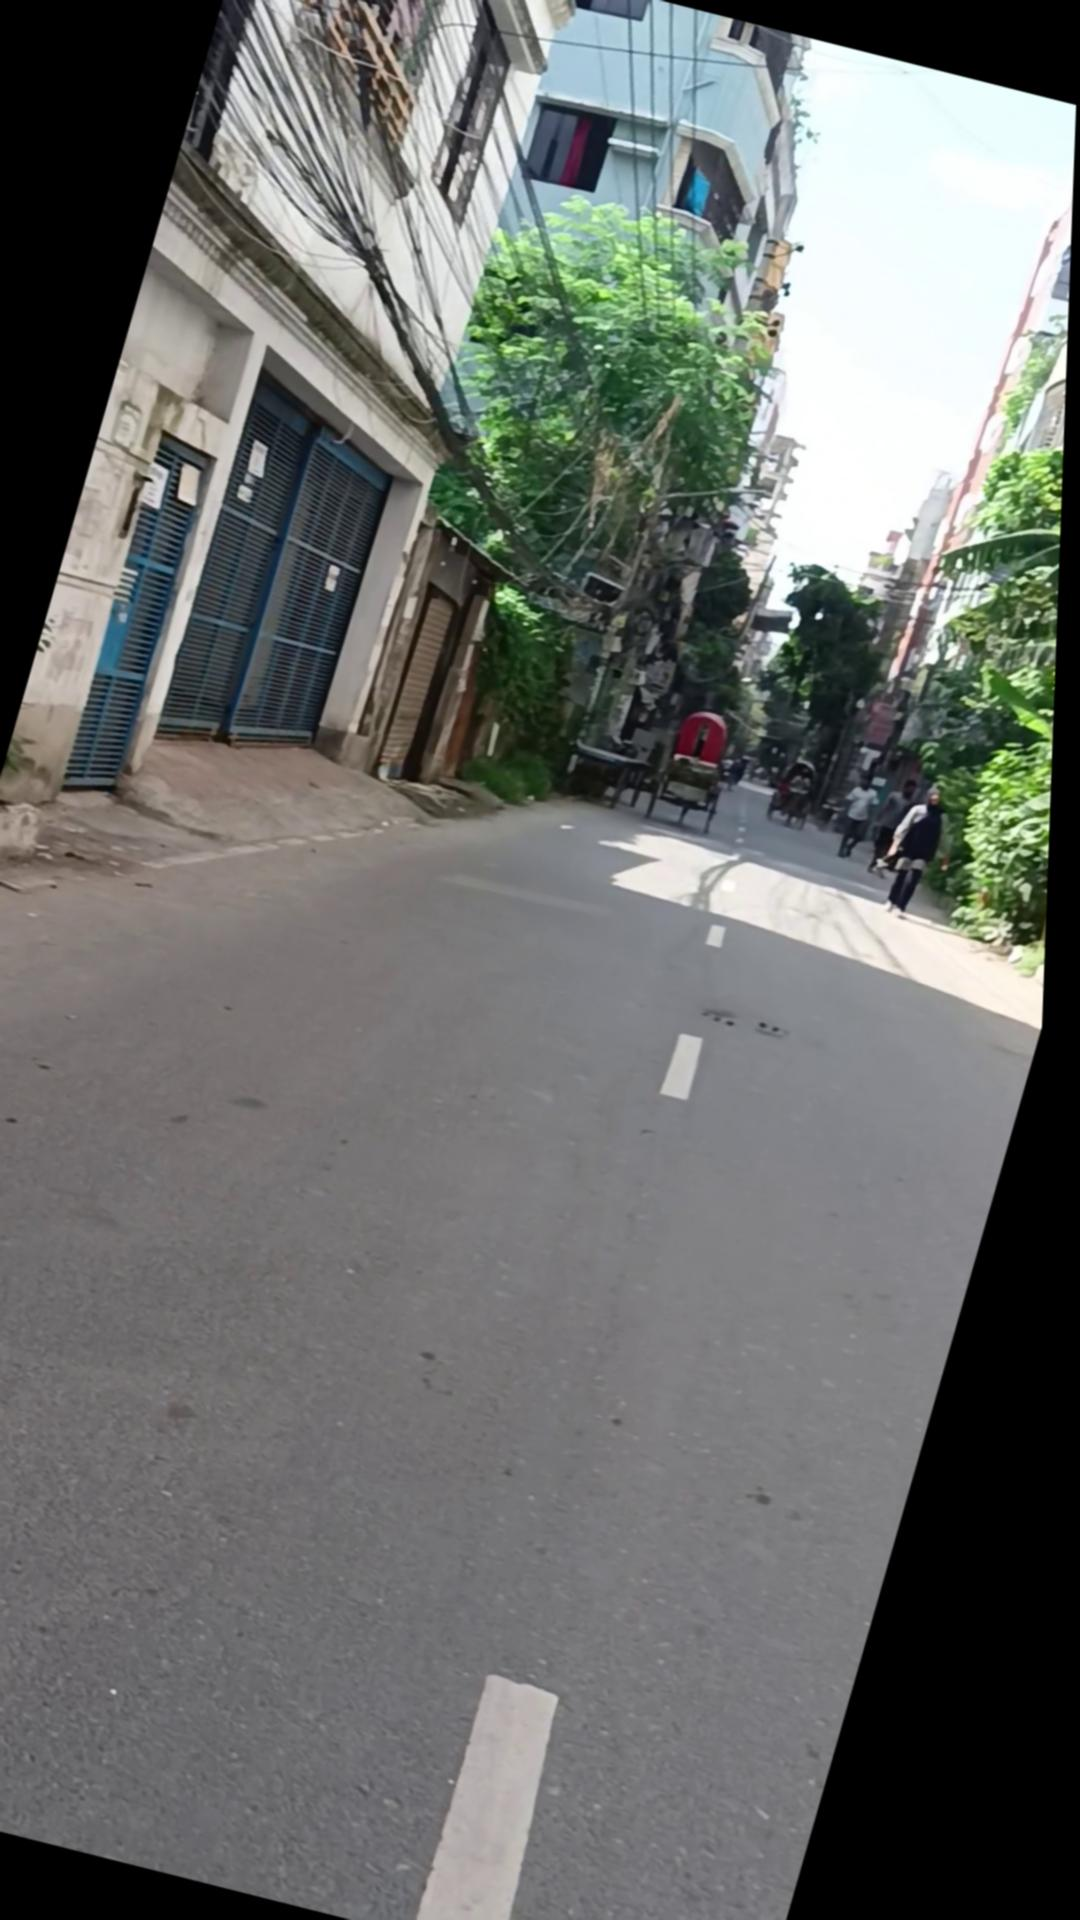Curb: (874, 778, 963, 920), (866, 773, 924, 877), (833, 770, 891, 861)
Light-pole: (836, 233, 1073, 980), (731, 556, 915, 818)
Obstacle: (0, 0, 593, 899)
